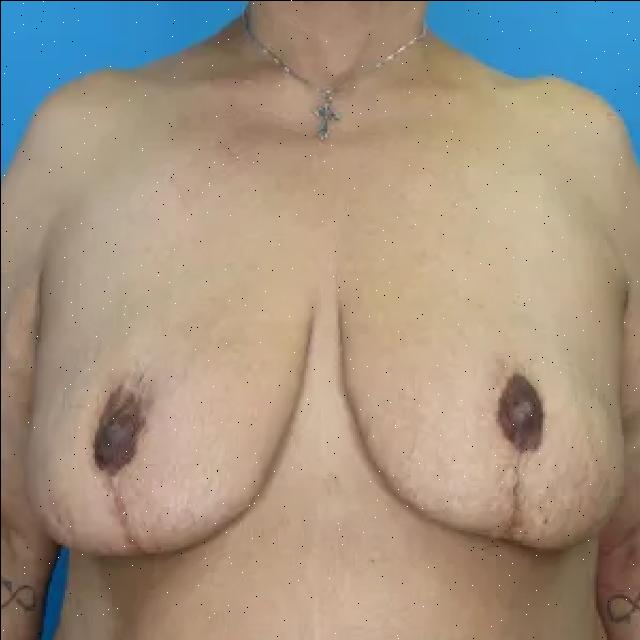Seno herido: (333, 262, 629, 558), (15, 268, 311, 564)
